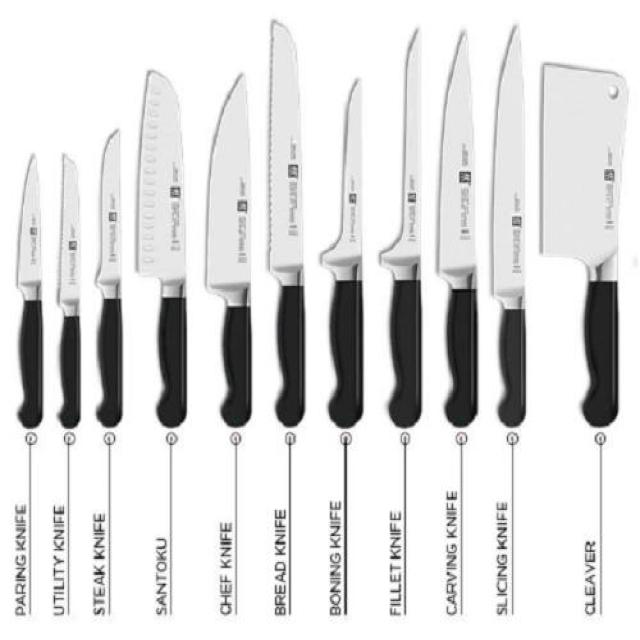weapon: (539, 55, 626, 441), (428, 23, 492, 436), (202, 66, 266, 435), (142, 65, 200, 435), (262, 11, 312, 438), (381, 25, 432, 436), (320, 65, 374, 433), (489, 19, 535, 430), (92, 125, 134, 436), (13, 150, 50, 434), (58, 149, 88, 442)
